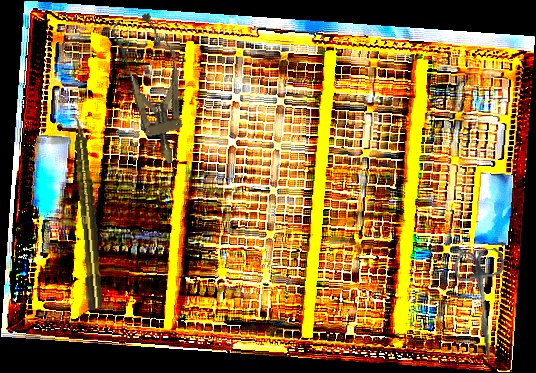Handpiece: (69, 112, 105, 311)
Iris Scissors: (452, 247, 516, 365)
Speculum: (106, 9, 200, 170)
